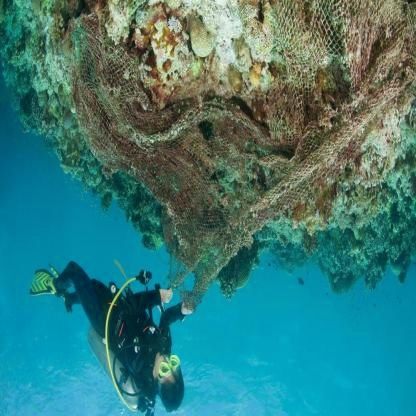net: (75, 1, 407, 273)
